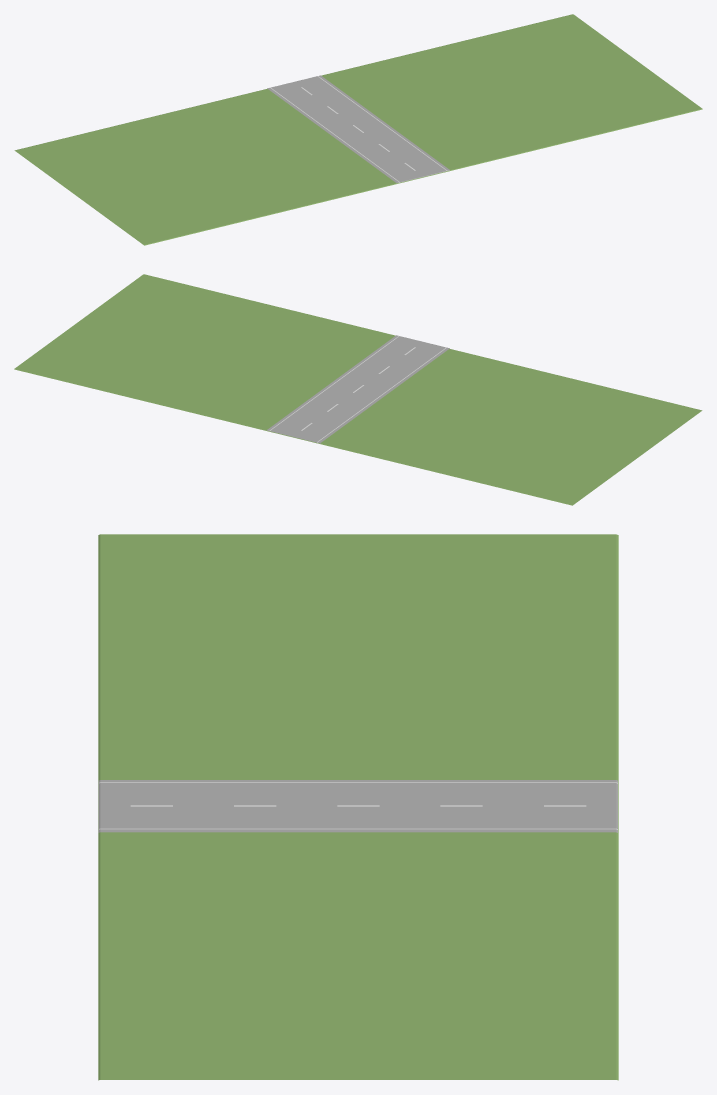
Rendered from road_straight.fbx.
3 renders of one model, top to bottom at view 1: azimuth 30°, elevation 25°; view 2: azimuth 150°, elevation 25°; view 3: azimuth 270°, elevation 25°, orthographic. The views are drawn at different scales.
Parts seen in each view (by area): view 1: grass, road_straight, stuff; view 2: grass, road_straight, stuff; view 3: grass, road_straight, stuff.
Boxes of the visible parts, box(x1,y1,x2,y2) form: grass: box(14, 14, 702, 245); road_straight: box(267, 75, 449, 183); stuff: box(270, 76, 447, 182); grass: box(14, 274, 702, 505); road_straight: box(267, 335, 449, 443); stuff: box(269, 336, 446, 442); grass: box(98, 534, 618, 1080); road_straight: box(98, 780, 617, 832); stuff: box(99, 782, 617, 829).
Size of the model in its own units: 25 by 0.0426 by 10.08.
